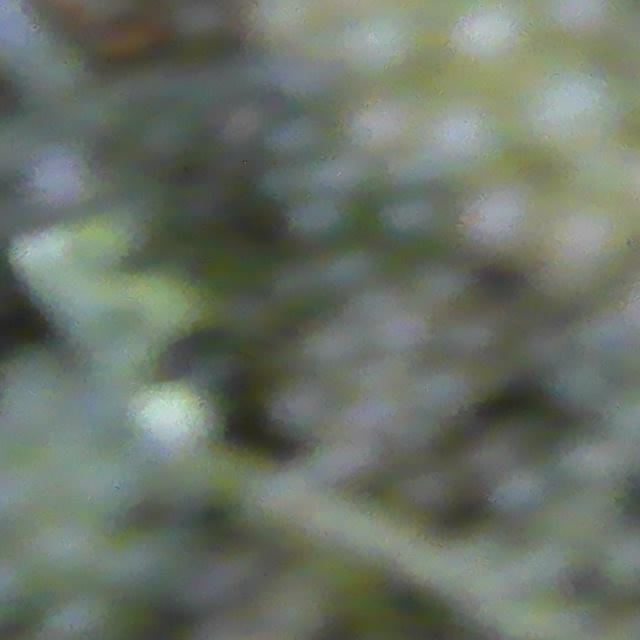SeaGrape: (517, 60, 625, 161), (415, 88, 519, 191), (446, 0, 533, 77), (550, 203, 620, 298), (338, 10, 418, 89), (342, 88, 420, 166), (28, 511, 103, 585), (465, 180, 535, 247)
